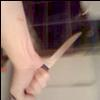melee: (6, 21, 82, 99)
